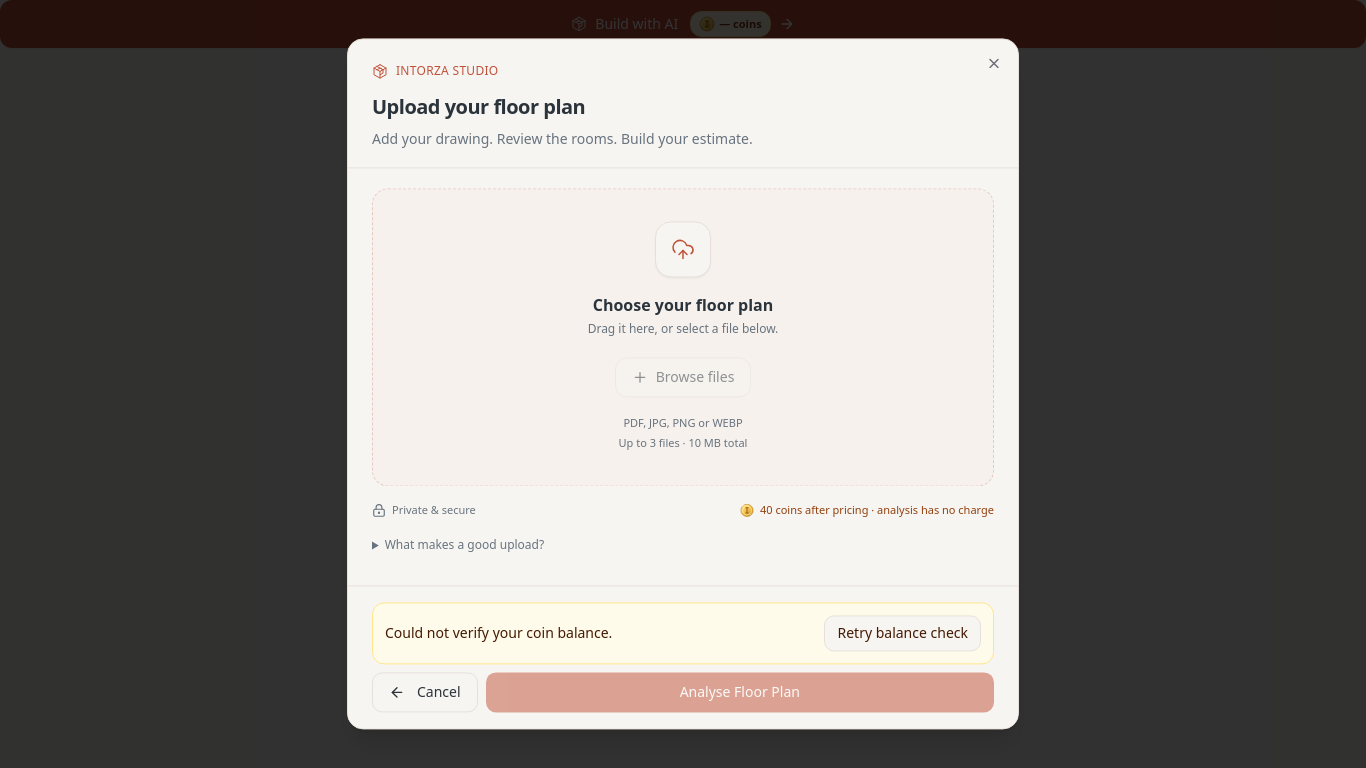
Test case: keeps actions disabled when balance verification fails and supports retry
Expected: the text "Could not verify your coin balance." is shown, [385,624,612,644]
Expected: the button "Browse files" is disabled, [615,357,751,397]
Click the button "Retry balance check" at (903, 634), box [824,616,981,652]
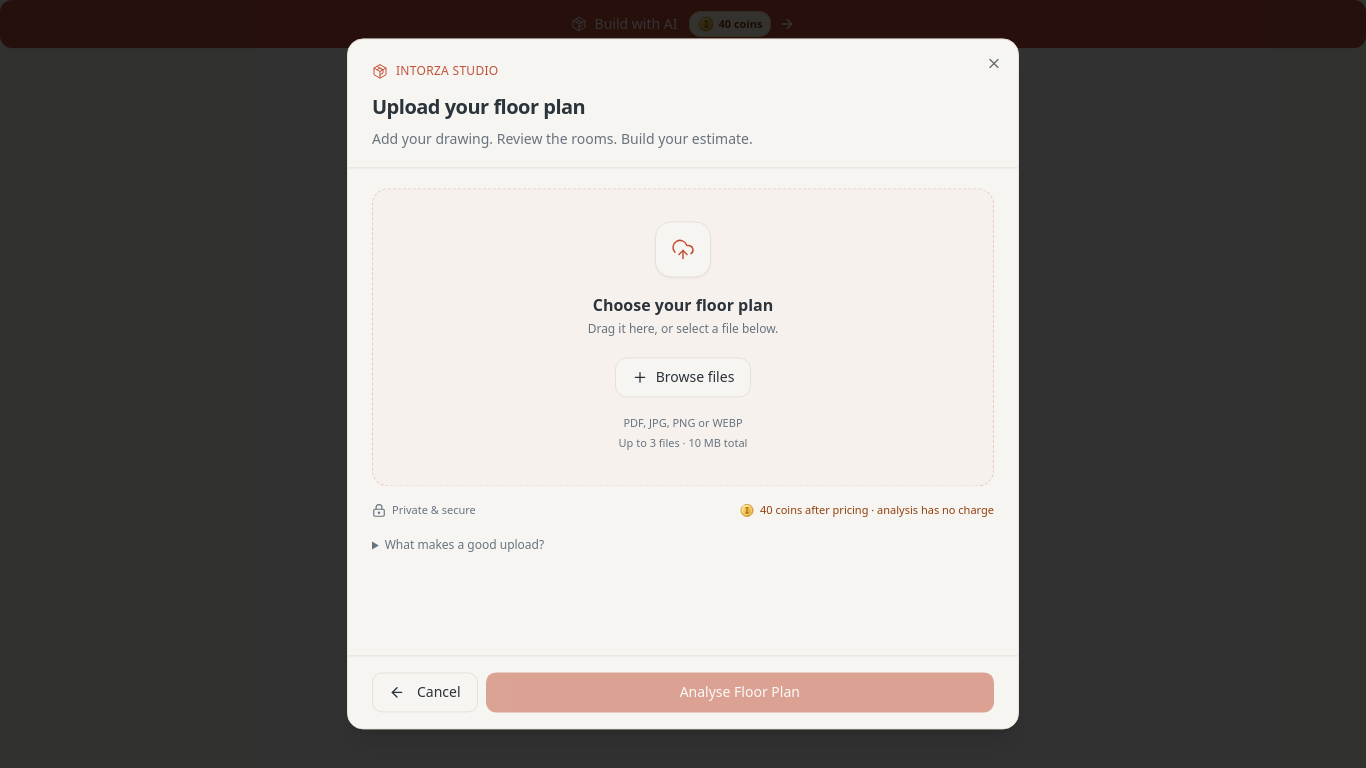
Expected: the button "Browse files" is enabled, [615,357,751,397]
